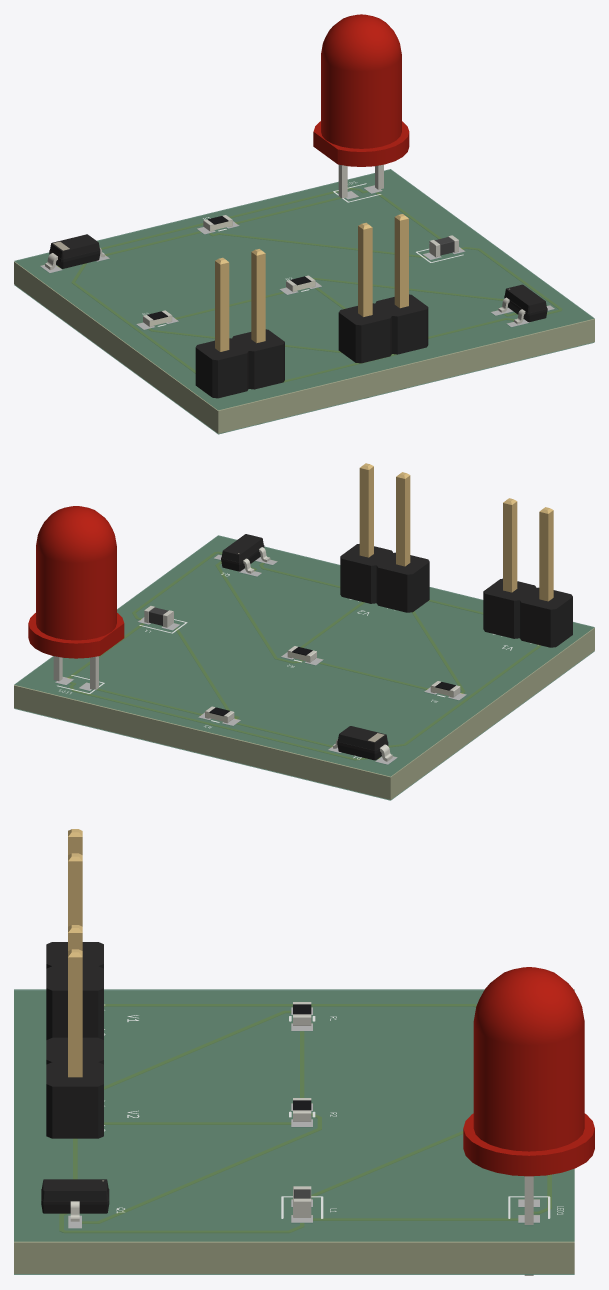
The model's file is mosfet-switch.glb.
The picture shows the model from 3 angles, top to bottom: view 1: azimuth 30°, elevation 25°; view 2: azimuth 150°, elevation 25°; view 3: azimuth 270°, elevation 25°; orthographic projection. The views are drawn at different scales.
Parts seen in each view (by area): view 1: =>[0:1:1:19], =>[0:1:1:17], =>[0:1:1:3] (×2), =>[0:1:1:5], =>[0:1:1:14], =>[0:1:1:11], =>[0:1:1:13], =>[0:1:1:15], =>[0:1:1:18]; view 2: =>[0:1:1:19], =>[0:1:1:17], =>[0:1:1:3] (×2), =>[0:1:1:5], =>[0:1:1:14], =>[0:1:1:11], =>[0:1:1:13], =>[0:1:1:15], =>[0:1:1:18], =>[0:1:1:7]; view 3: =>[0:1:1:19], =>[0:1:1:17], =>[0:1:1:5], =>[0:1:1:3] (×2), =>[0:1:1:14], =>[0:1:1:13], =>[0:1:1:15], =>[0:1:1:16], =>[0:1:1:7].
Part boxes in pixels (x1,y1,x2,y2): =>[0:1:1:19]: (14,170,594,433); =>[0:1:1:17]: (14,169,594,410); =>[0:1:1:3] (×2): (195,214,428,398); =>[0:1:1:5]: (313,14,409,198); =>[0:1:1:14]: (58,188,561,381); =>[0:1:1:11]: (45,234,104,270); =>[0:1:1:13]: (498,284,547,324); =>[0:1:1:15]: (40,185,554,329); =>[0:1:1:18]: (14,285,594,434); =>[0:1:1:19]: (14,536,594,799); =>[0:1:1:17]: (14,535,594,776); =>[0:1:1:3] (×2): (340,463,572,647); =>[0:1:1:5]: (28,506,124,689); =>[0:1:1:14]: (68,552,540,759); =>[0:1:1:11]: (333,726,392,761); =>[0:1:1:13]: (221,534,270,573); =>[0:1:1:15]: (55,555,466,764); =>[0:1:1:18]: (14,651,594,800); =>[0:1:1:7]: (144,606,173,627); =>[0:1:1:19]: (14,991,574,1273); =>[0:1:1:17]: (14,989,574,1241); =>[0:1:1:5]: (463,967,594,1275); =>[0:1:1:3] (×2): (46,829,103,1138); =>[0:1:1:14]: (60,1004,551,1232); =>[0:1:1:13]: (41,1179,109,1221); =>[0:1:1:15]: (68,1007,539,1228); =>[0:1:1:16]: (104,1004,563,1218); =>[0:1:1:7]: (293,1186,311,1217).
Size of the model in its own units: 0.0263 by 0.0146 by 0.0256.
